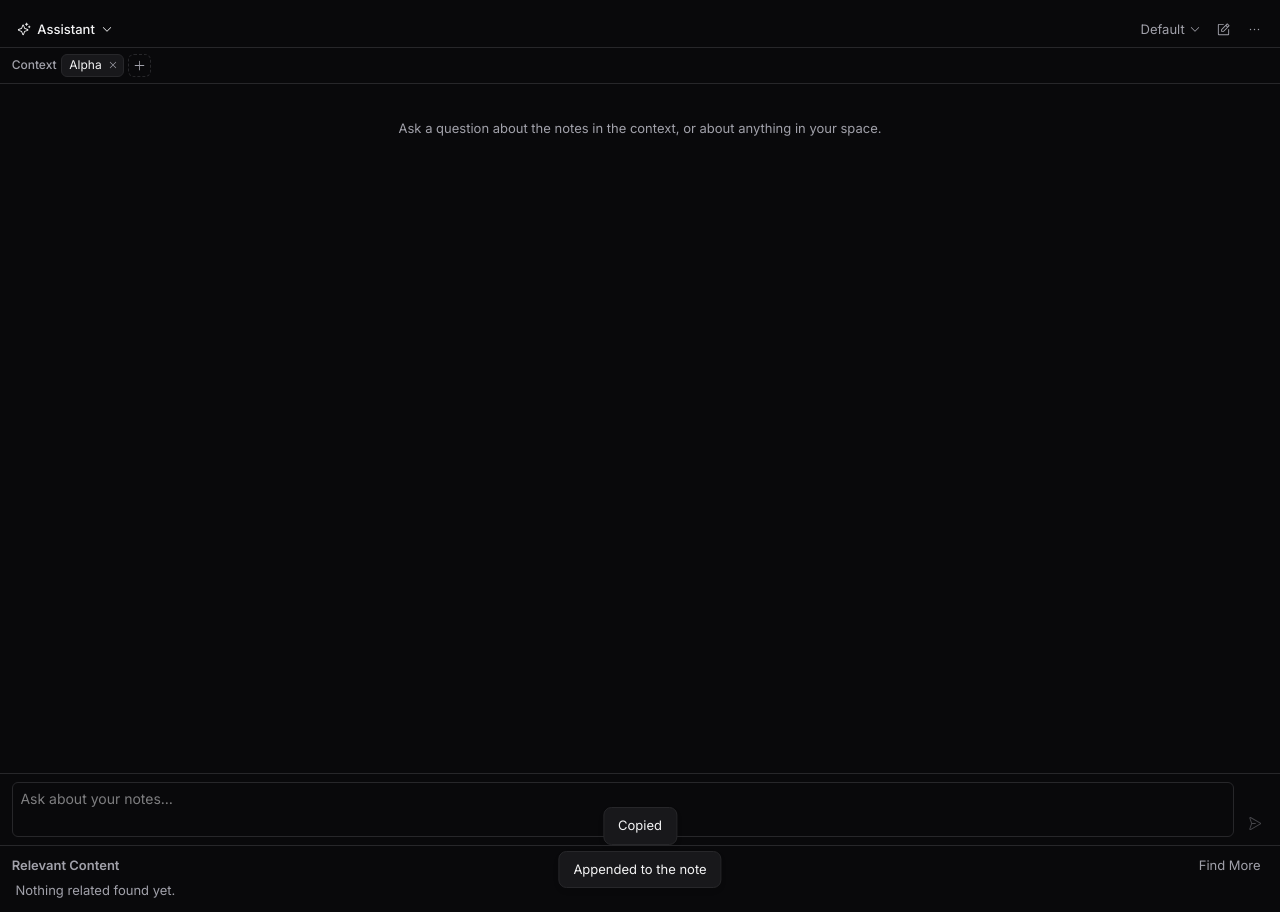
it: AiChatPanel › test Append to daily note writes today’s note; without context Append to page is disabled
Later steps or results of the test are not shown.
Click the button named "Remove Alpha from the context". click: {"x": 113, "y": 65}
box: [106,58,121,73]
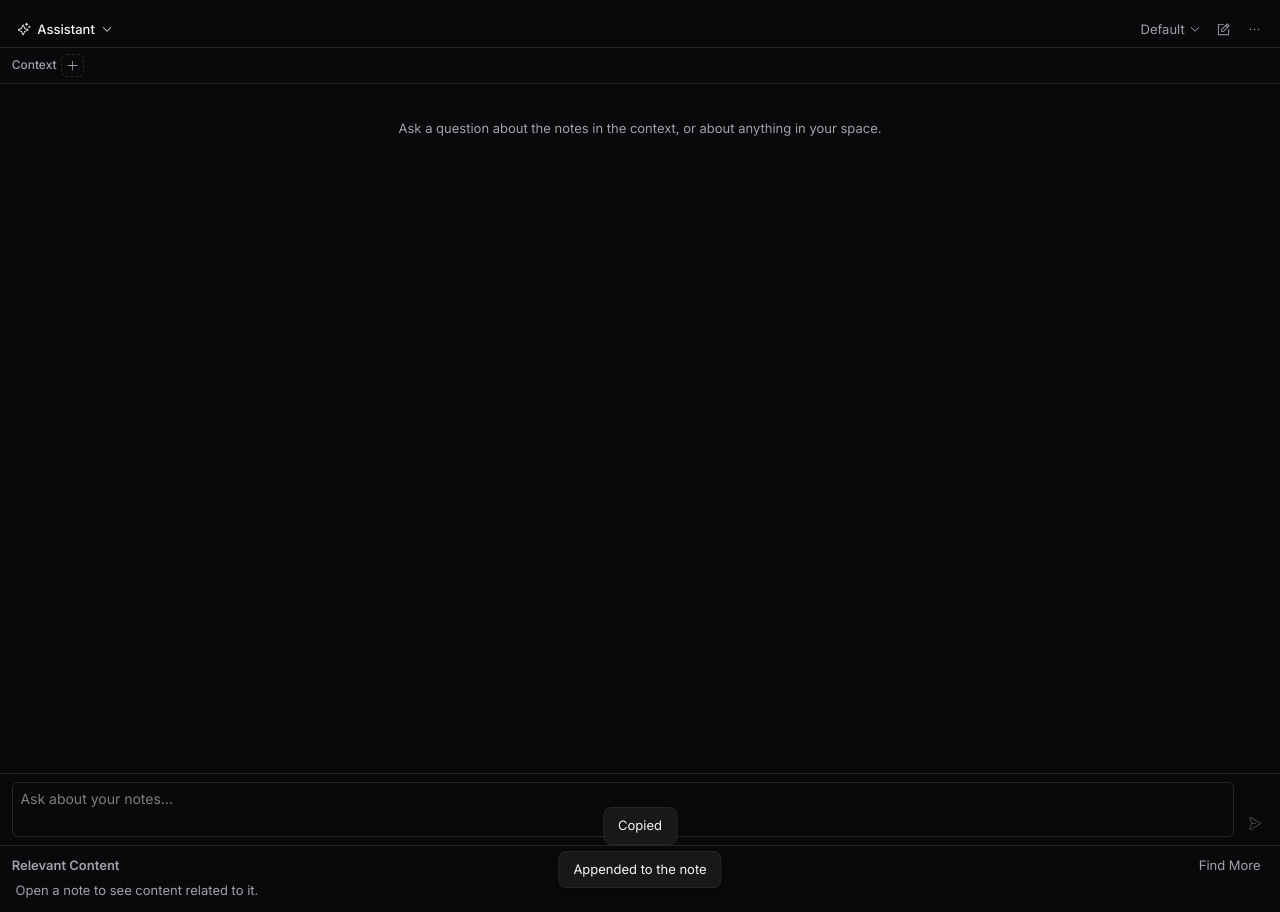
Expected: the text "Alpha" is gone
Type "Q" into the text box named "Message". click: {"x": 623, "y": 809}
box: [12,782,1234,837]
Then press Enter
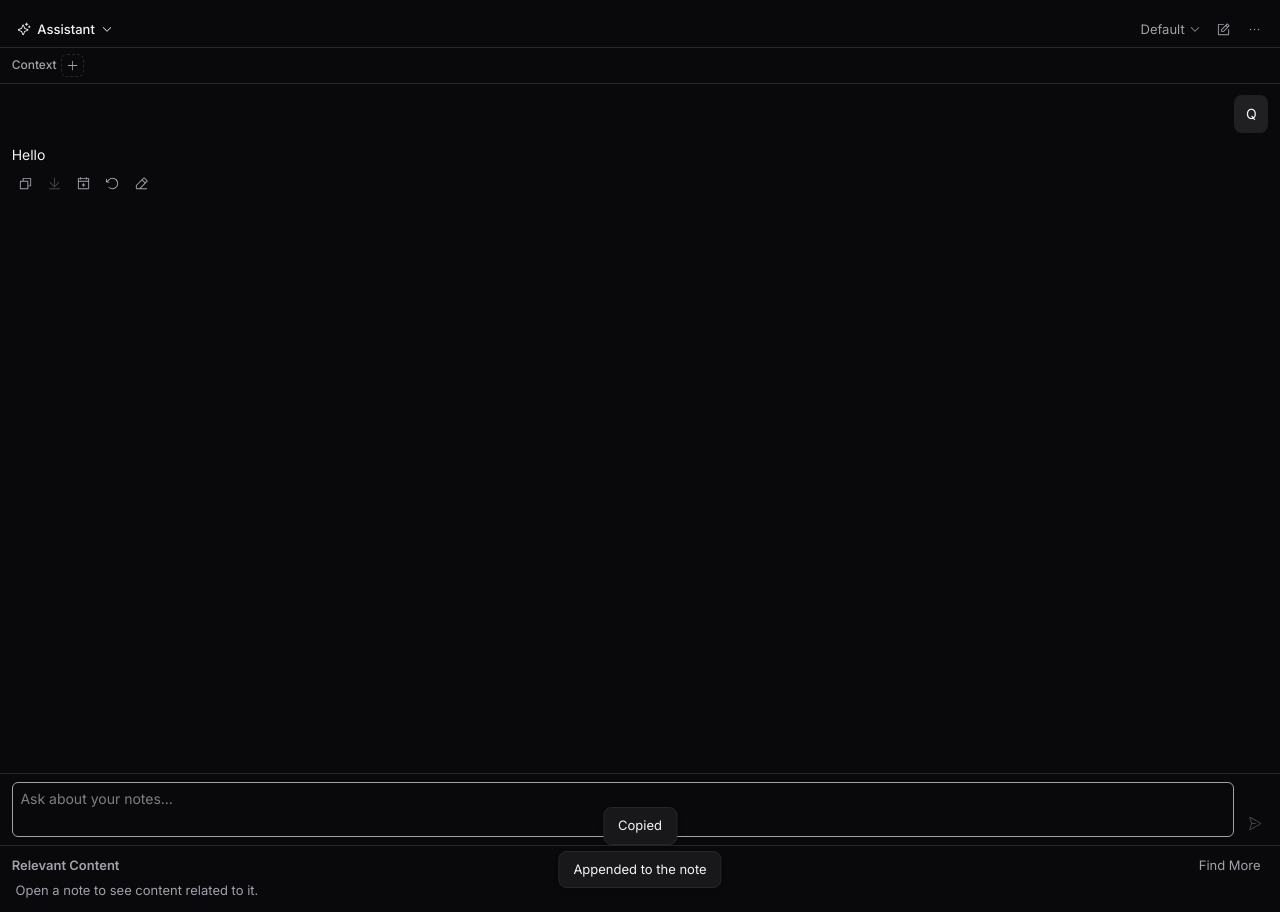
Expected: the button named "Append to daily note" is shown, [70,170,97,197]
Expected: the button named "Append to note" is disabled, [41,170,68,197]
